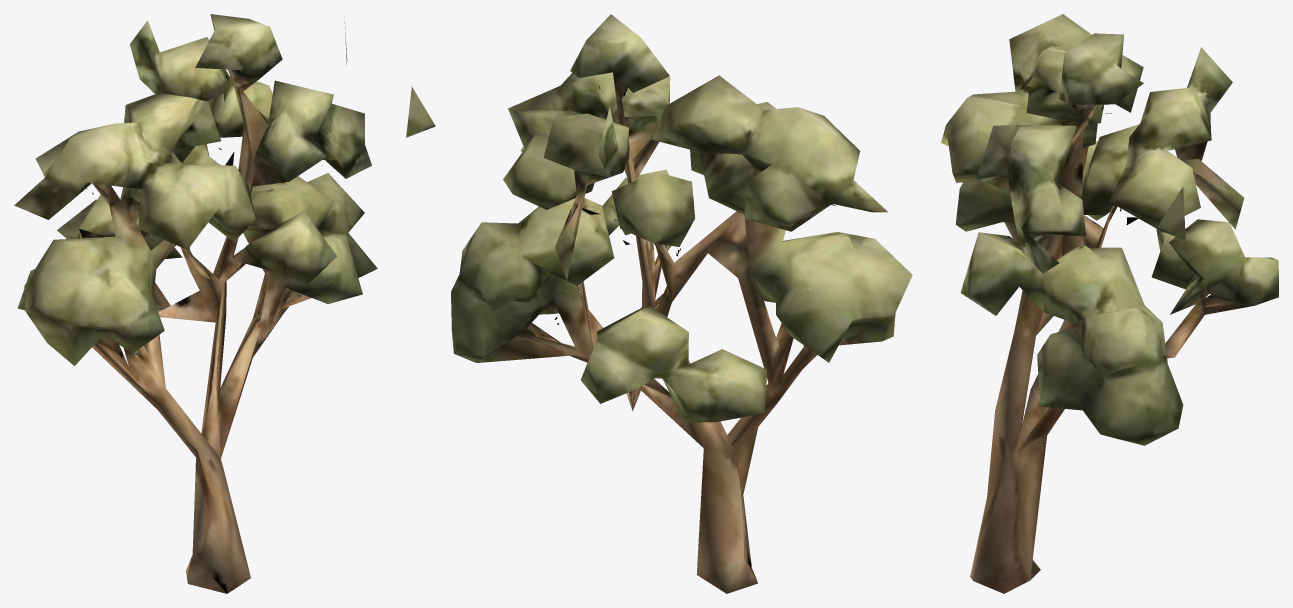
File: mucha_tree.glb
3 renders of one model, left to right at view 1: azimuth 30°, elevation 25°; view 2: azimuth 150°, elevation 25°; view 3: azimuth 270°, elevation 25°, orthographic. The views are drawn at different scales.
Parts seen in each view (by area): view 1: tripo_node_e9e4bf8a-0a01-419f-bb26-a87da84bea1d.001; view 2: tripo_node_e9e4bf8a-0a01-419f-bb26-a87da84bea1d.001; view 3: tripo_node_e9e4bf8a-0a01-419f-bb26-a87da84bea1d.001.
Part boxes in pixels (box(x1,y1,x2,y2)): tripo_node_e9e4bf8a-0a01-419f-bb26-a87da84bea1d.001: box(14, 14, 377, 593); tripo_node_e9e4bf8a-0a01-419f-bb26-a87da84bea1d.001: box(406, 14, 912, 593); tripo_node_e9e4bf8a-0a01-419f-bb26-a87da84bea1d.001: box(941, 14, 1278, 593).
Size of the model in its own units: 0.7553 by 0.9637 by 0.5171.
Materials: 1 (1 with a texture image).
